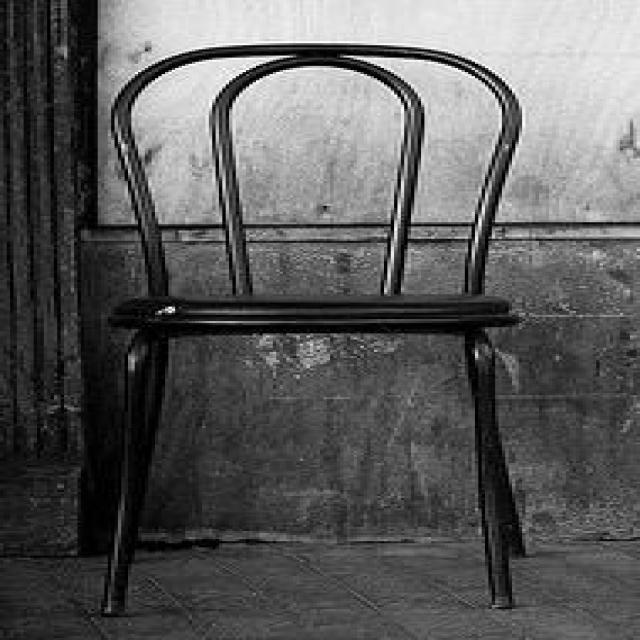chair: (91, 44, 533, 614)
